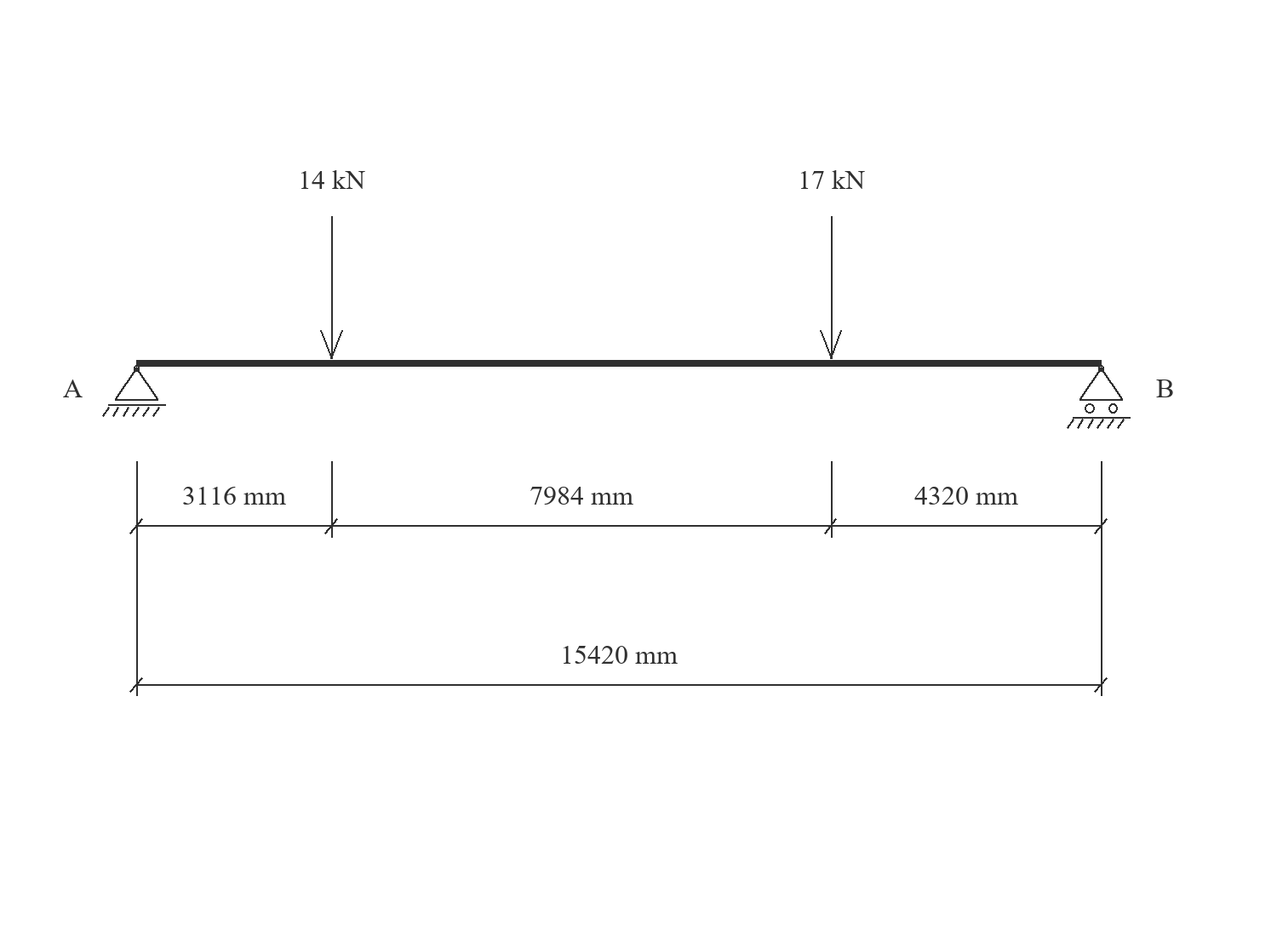pin_support: (102, 365, 166, 417)
point_load: (320, 216, 343, 359), (820, 216, 842, 359)
roller_support: (1067, 365, 1131, 429)
